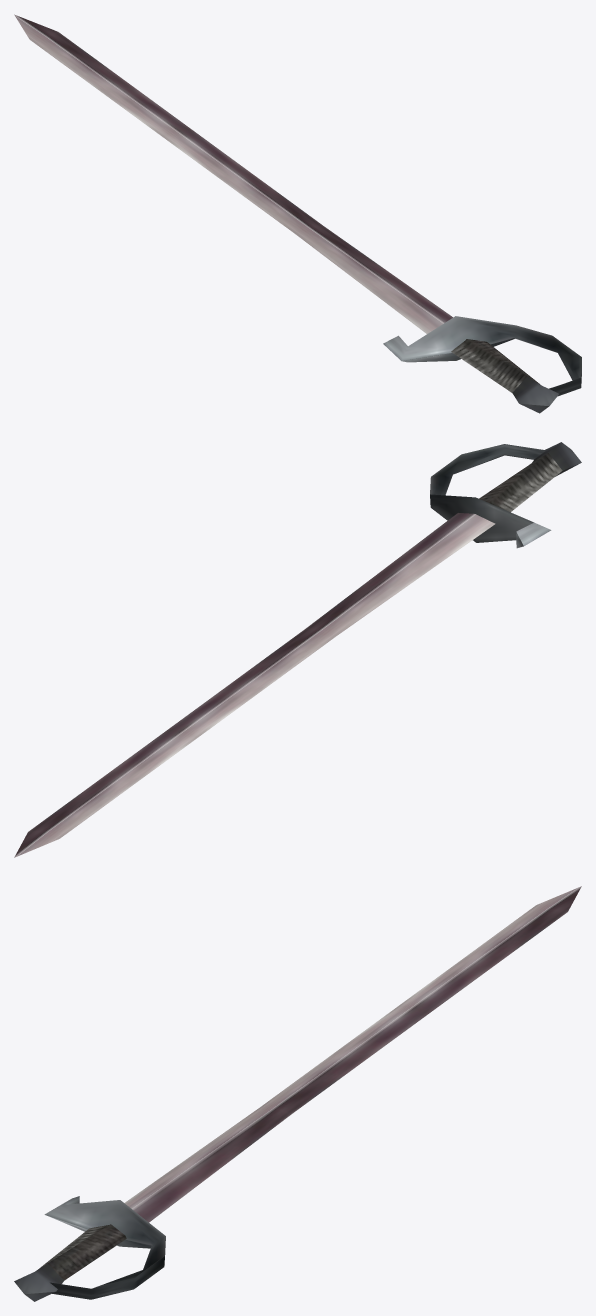
The model's file is pir_m_hnd_swd_broadsword_a.fbx.
3 views of the same model, one above another, from view 1: azimuth 30°, elevation 25°; view 2: azimuth 150°, elevation 25°; view 3: azimuth 330°, elevation 25° (orthographic). The views are drawn at different scales.
Visible parts, largest first — view 1: lod_high; view 2: lod_high; view 3: lod_high.
Part boxes in pixels (bbox=[...]): lod_high: bbox=[14, 14, 581, 413]; lod_high: bbox=[14, 442, 581, 857]; lod_high: bbox=[14, 886, 581, 1301].
Size of the model in its own units: 56.6 by 17.96 by 393.
1 material, 1 textured.
